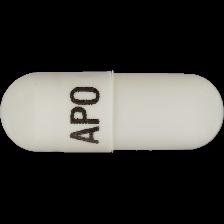60505-3145: (0, 0, 224, 224)
